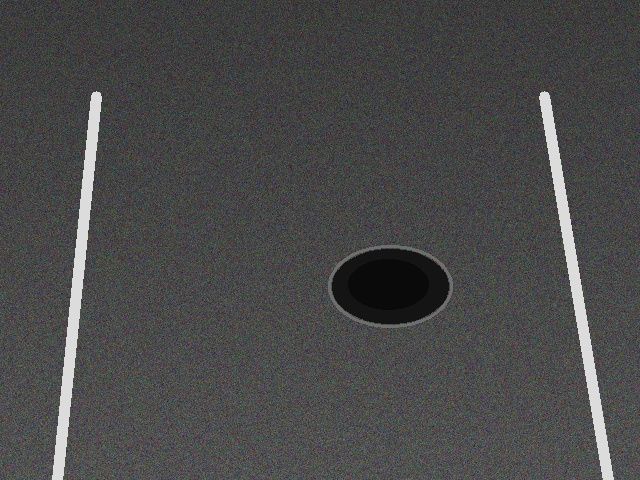D40: (327, 244, 453, 328)
